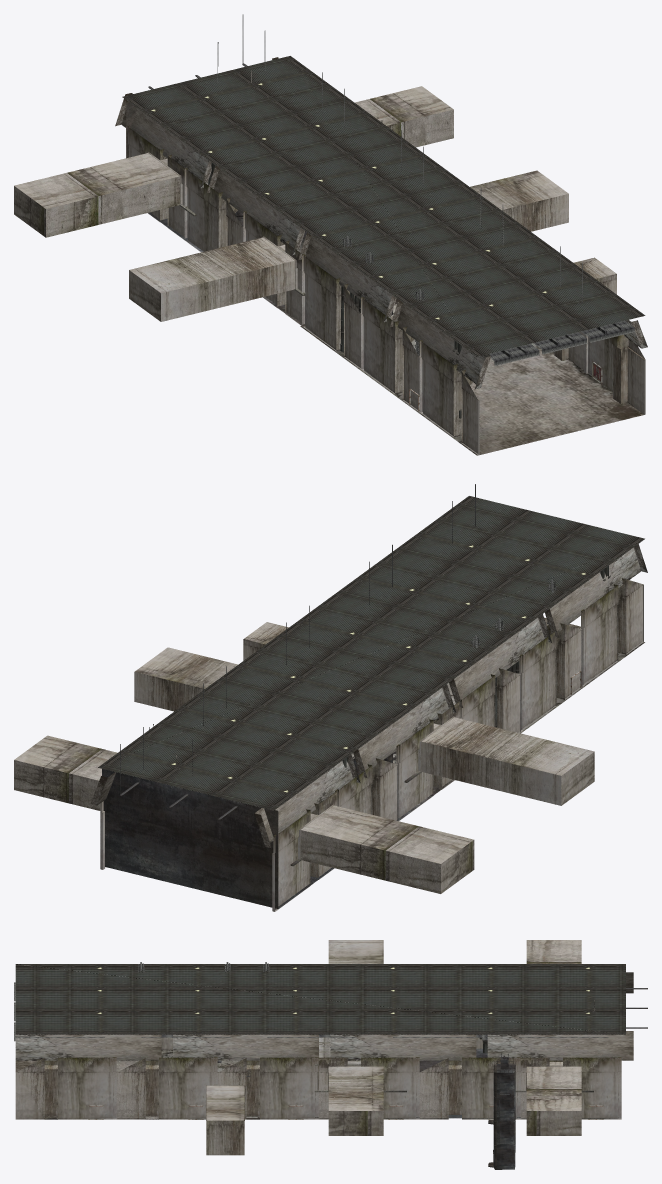
File: factory.glb
3 views of the same model, one above another, from view 1: azimuth 30°, elevation 25°; view 2: azimuth 150°, elevation 25°; view 3: azimuth 270°, elevation 25° (orthographic). The views are drawn at different scales.
Parts seen in each view (by area): view 1: Plane005_Material005_0, Plane004_Material002_0, Plane001_Material002_0, Plane_Material001_0, Plane012_Material001_0, Plane006_Material006_0, Cube001_Material002_0, Cube020_Material006_0; view 2: Plane005_Material005_0, Plane004_Material002_0, Plane014_Material003_0, Plane012_Material001_0, Plane001_Material002_0, Cube001_Material002_0; view 3: Plane005_Material005_0, Plane001_Material002_0, Plane012_Material001_0, Plane004_Material002_0, Cube001_Material002_0, factory_tube_03001_Material003_0, Plane_Material001_0, Plane006_Material006_0, Plane002_Material003_0.
Boxes of the visible parts, x1,y1,x2,y2 form: Plane005_Material005_0: (122,56,645,356); Plane004_Material002_0: (14,125,479,455); Plane001_Material002_0: (355,86,645,414); Plane_Material001_0: (300,304,643,455); Plane012_Material001_0: (115,57,647,389); Plane006_Material006_0: (489,321,635,365); Cube001_Material002_0: (573,257,616,294); Cube020_Material006_0: (217,14,582,303); Plane005_Material005_0: (98,496,644,810); Plane004_Material002_0: (272,578,643,911); Plane014_Material003_0: (102,769,278,908); Plane012_Material001_0: (90,544,647,848); Plane001_Material002_0: (14,647,237,869); Cube001_Material002_0: (243,622,288,660); Plane005_Material005_0: (15,964,625,1034); Plane001_Material002_0: (15,1057,621,1135); Plane012_Material001_0: (15,972,633,1060); Plane004_Material002_0: (161,940,581,1050); Cube001_Material002_0: (206,1085,244,1155); factory_tube_03001_Material003_0: (488,1053,515,1169); Plane_Material001_0: (15,1050,259,1119); Plane006_Material006_0: (14,982,608,1041); Plane002_Material003_0: (314,1048,618,1118).
Bounding box in the file's own units: 22.84 × 9.9 × 35.77.
Materials: 11 (10 with a texture image).
